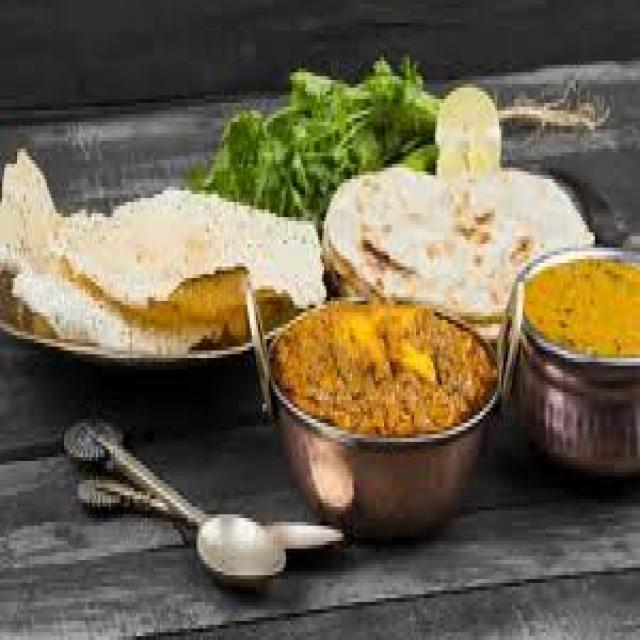dal: (524, 255, 634, 367)
rice: (275, 280, 503, 449)
roti: (272, 268, 499, 462)
